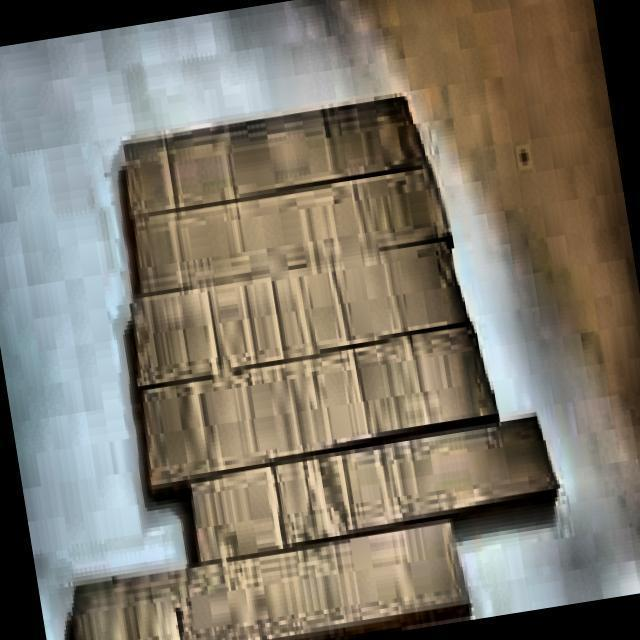cardboard: (0, 74, 576, 640), (55, 513, 473, 640)
